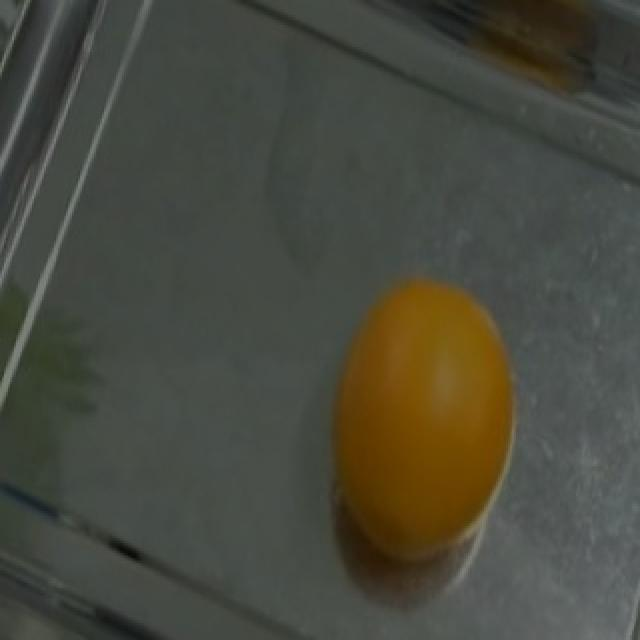Fruit: (306, 253, 536, 593)
